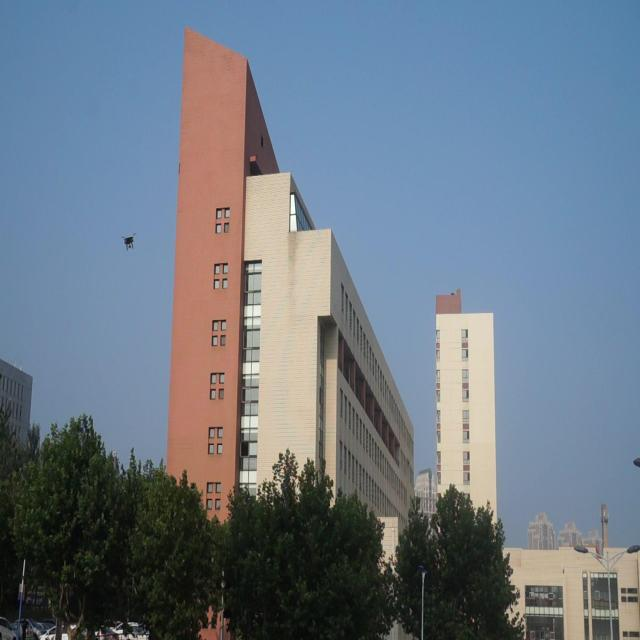drone: (119, 227, 141, 253)
